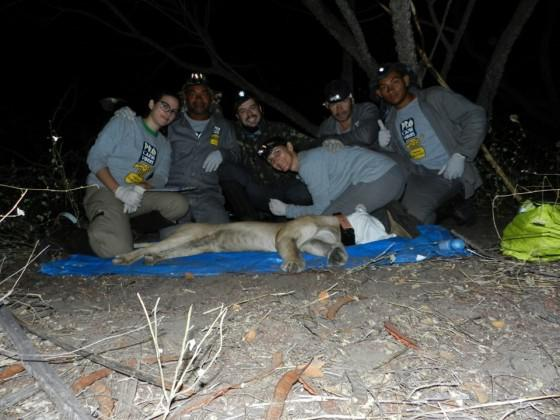OncaParda: (126, 207, 394, 283)
